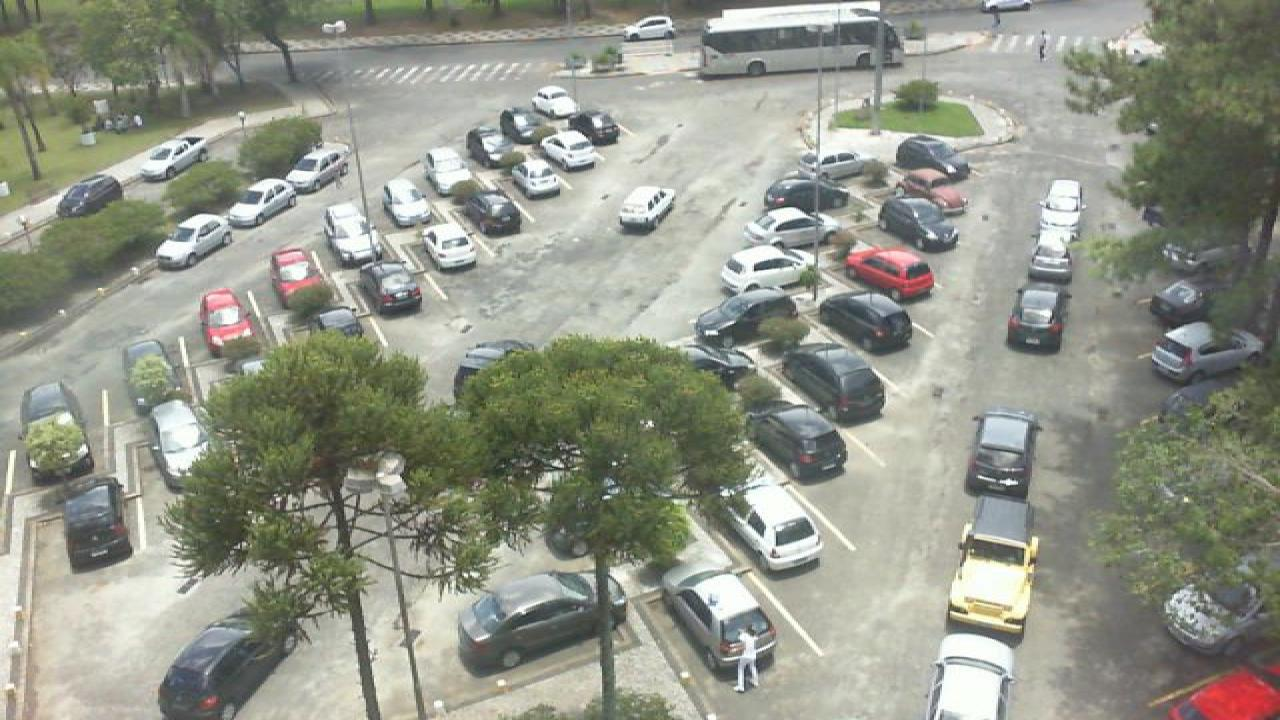Car: (454, 570, 628, 678), (158, 611, 304, 720), (660, 558, 780, 682), (938, 498, 1038, 637), (708, 468, 826, 572), (744, 392, 848, 480), (780, 341, 886, 424), (1160, 574, 1264, 654), (926, 633, 1014, 720), (962, 407, 1042, 502), (20, 382, 96, 481), (1146, 320, 1262, 384), (146, 397, 218, 493), (62, 480, 134, 570), (1168, 664, 1280, 720), (692, 288, 796, 348), (818, 292, 914, 356), (842, 246, 936, 304), (720, 242, 816, 295), (1006, 278, 1070, 355), (876, 197, 960, 254), (154, 214, 232, 270), (1148, 271, 1226, 326), (198, 288, 258, 359), (742, 207, 838, 251), (224, 176, 300, 230), (680, 342, 758, 389), (760, 174, 848, 215), (894, 134, 970, 181), (324, 202, 380, 264), (136, 135, 210, 181), (418, 220, 482, 272), (286, 144, 350, 195), (266, 246, 322, 304), (1024, 222, 1076, 284), (56, 174, 126, 218), (460, 187, 522, 236), (364, 258, 422, 310), (902, 168, 968, 212), (538, 130, 598, 174), (506, 156, 564, 200), (380, 177, 430, 227), (426, 144, 474, 196), (464, 127, 520, 169), (1036, 178, 1082, 229), (796, 151, 872, 181), (564, 110, 620, 146), (498, 108, 550, 144), (532, 84, 580, 120), (620, 16, 678, 42)
